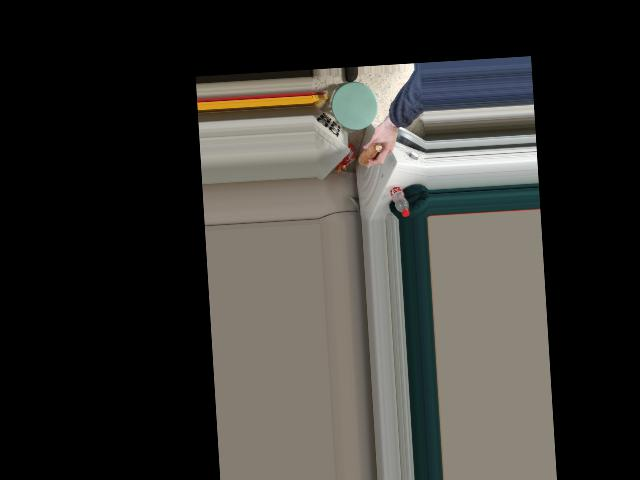sweet_potato: (358, 139, 386, 168)
